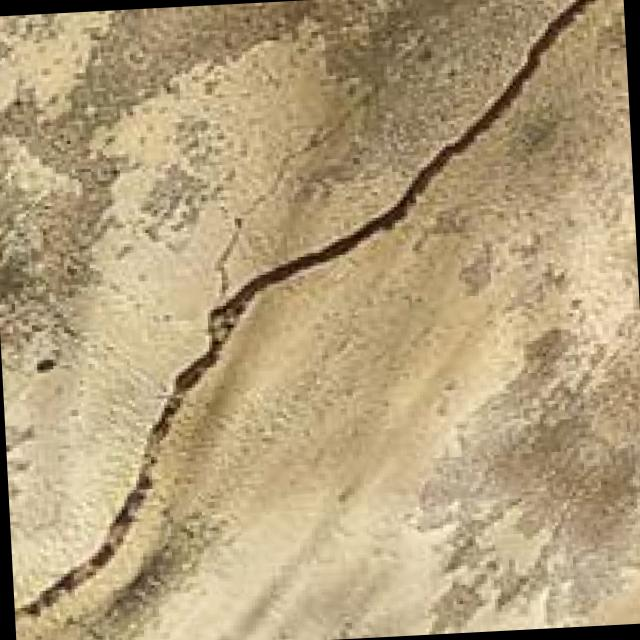crack: (0, 0, 621, 605)
